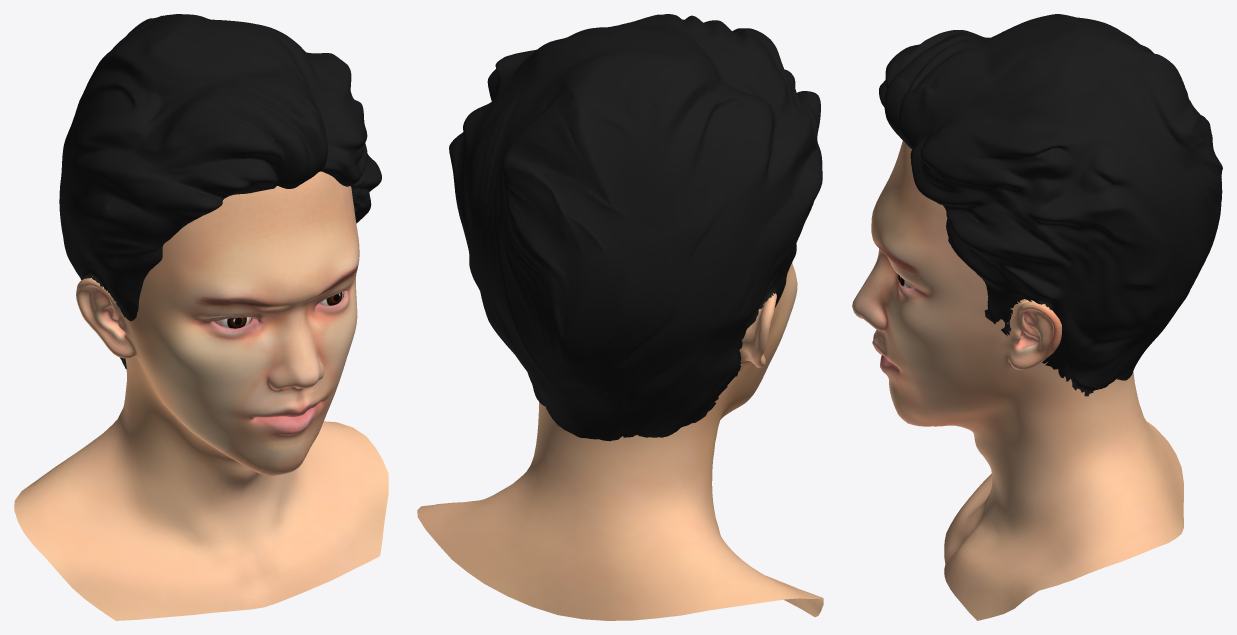
File: rigtest.glb
3 views of the same model, side by side, from view 1: azimuth 30°, elevation 25°; view 2: azimuth 150°, elevation 25°; view 3: azimuth 270°, elevation 25° (orthographic). The views are drawn at different scales.
Visible parts, largest first — view 1: head; view 2: head; view 3: head.
Part boxes in pixels (x1,y1,x2,y2): head: [14, 14, 388, 620]; head: [417, 14, 823, 620]; head: [852, 14, 1222, 620].
Bounding box in the file's own units: 1.04 × 1.51 × 0.9587.
Materials: 3 (2 with a texture image).
